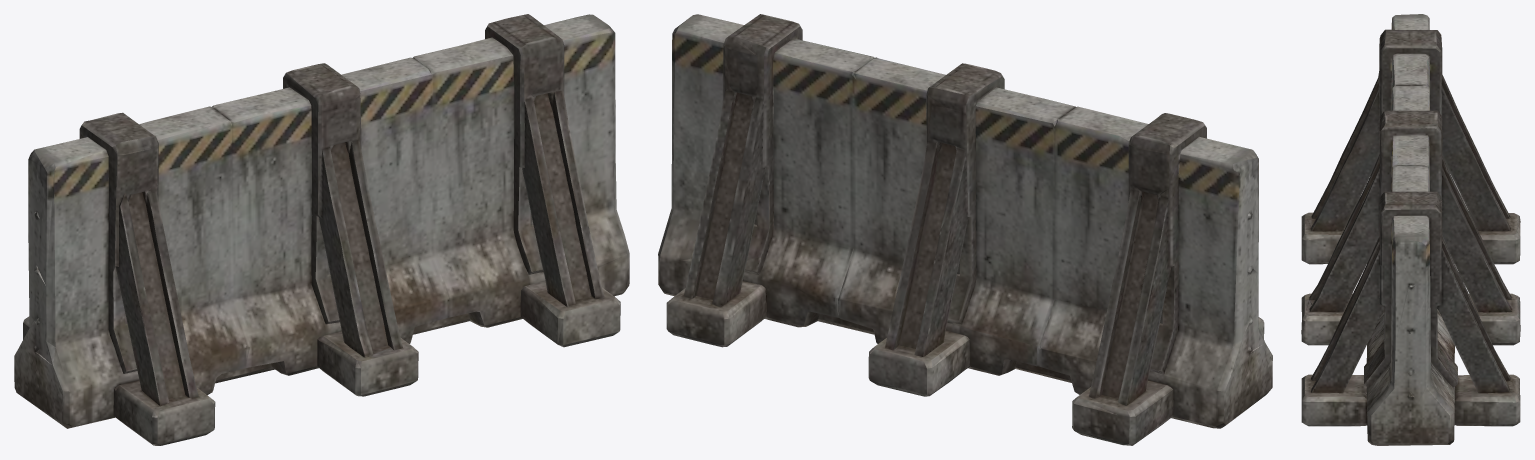
The model's file is struct.barrier.glb.
The picture shows the model from 3 angles, left to right: view 1: azimuth 30°, elevation 25°; view 2: azimuth 150°, elevation 25°; view 3: azimuth 270°, elevation 25°; orthographic projection. The views are drawn at different scales.
Parts seen in each view (by area): view 1: body; view 2: body; view 3: body.
Part boxes in pixels (x1,y1,x2,y2): body: (14,14,629,445); body: (658,14,1272,445); body: (1301,14,1520,445).
Size of the model in its own units: 2.92 by 1.3 by 1.18.
1 material, 1 textured.
